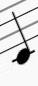LC: (9, 2, 36, 67)
